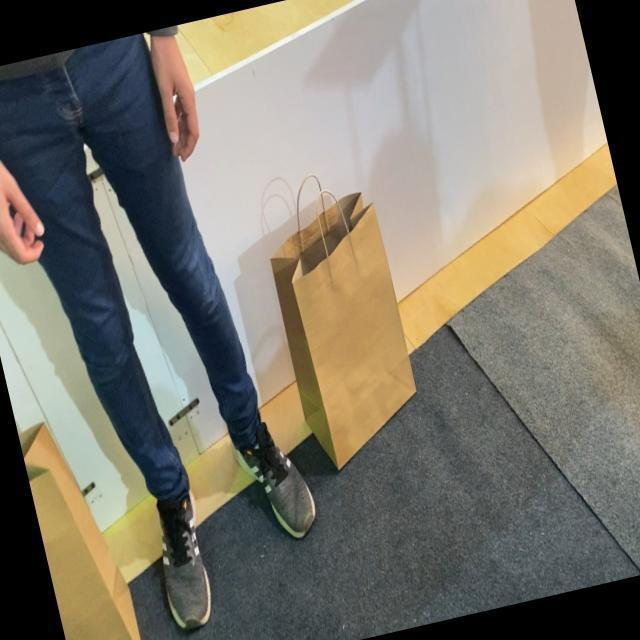Paper_Bag: (252, 160, 432, 474)
